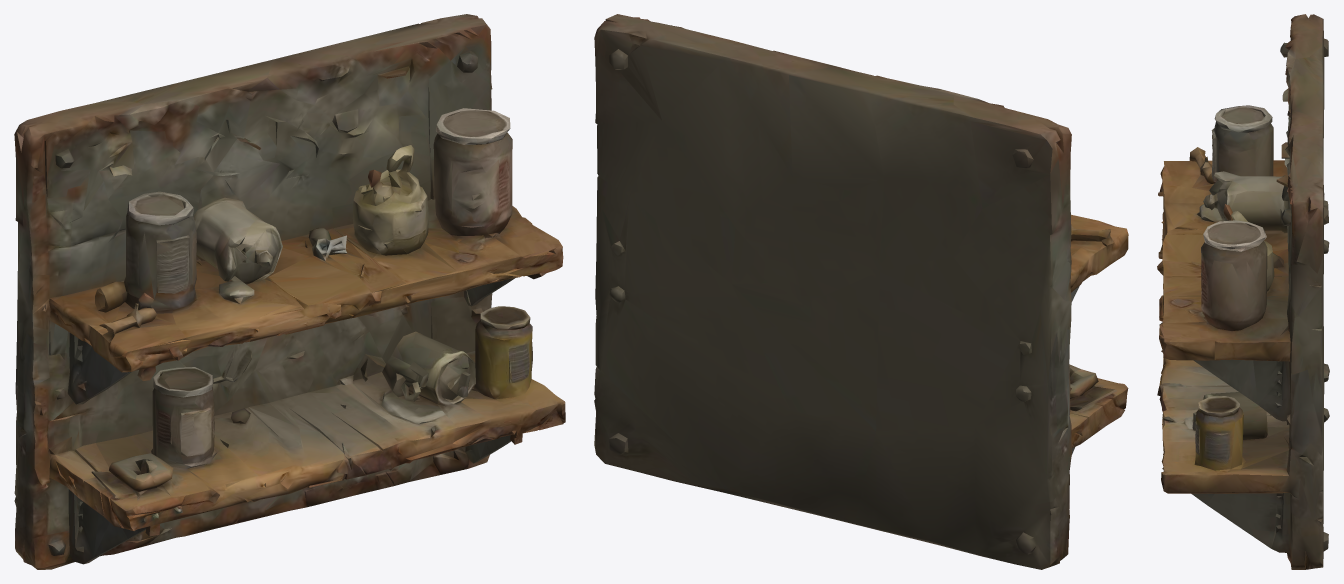
The model's file is wall_shelf_idle.glb.
3 views of the same model, side by side, from view 1: azimuth 30°, elevation 25°; view 2: azimuth 150°, elevation 25°; view 3: azimuth 270°, elevation 25° (orthographic). The views are drawn at different scales.
Visible parts, largest first — view 1: tripo_node_c76d2ca4-a30a-4c89-ab59-97c9e879fe2f; view 2: tripo_node_c76d2ca4-a30a-4c89-ab59-97c9e879fe2f; view 3: tripo_node_c76d2ca4-a30a-4c89-ab59-97c9e879fe2f.
Part boxes in pixels (x1=…): tripo_node_c76d2ca4-a30a-4c89-ab59-97c9e879fe2f: x1=14, y1=14, x2=565, y2=569; tripo_node_c76d2ca4-a30a-4c89-ab59-97c9e879fe2f: x1=594, y1=14, x2=1128, y2=569; tripo_node_c76d2ca4-a30a-4c89-ab59-97c9e879fe2f: x1=1157, y1=14, x2=1329, y2=569.
Bounding box in the file's own units: 0.3851 × 0.35 × 0.1467.
1 material, 1 textured.
